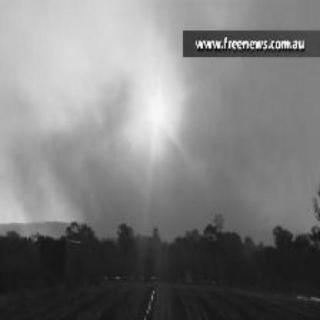other: (140, 80, 178, 144)
